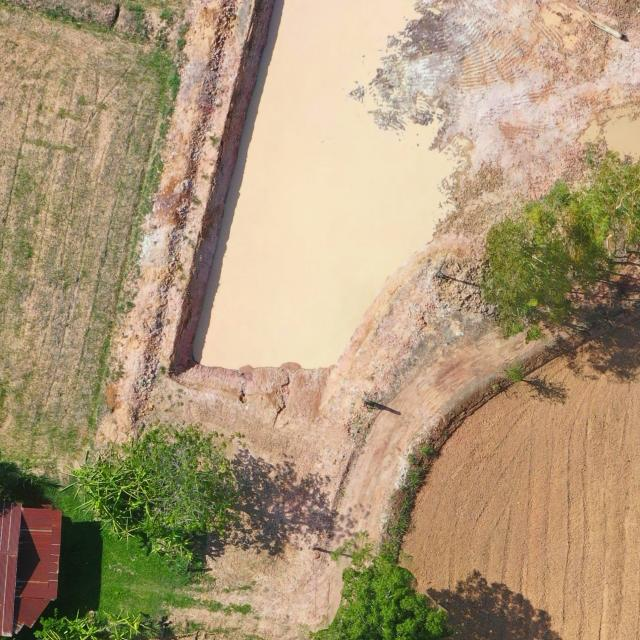Tree: (479, 147, 640, 339), (120, 422, 243, 534), (313, 557, 462, 640), (37, 627, 77, 640)
